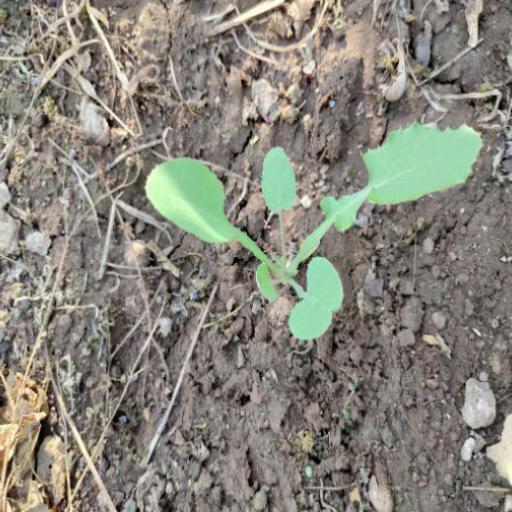weed: (147, 113, 485, 341)
